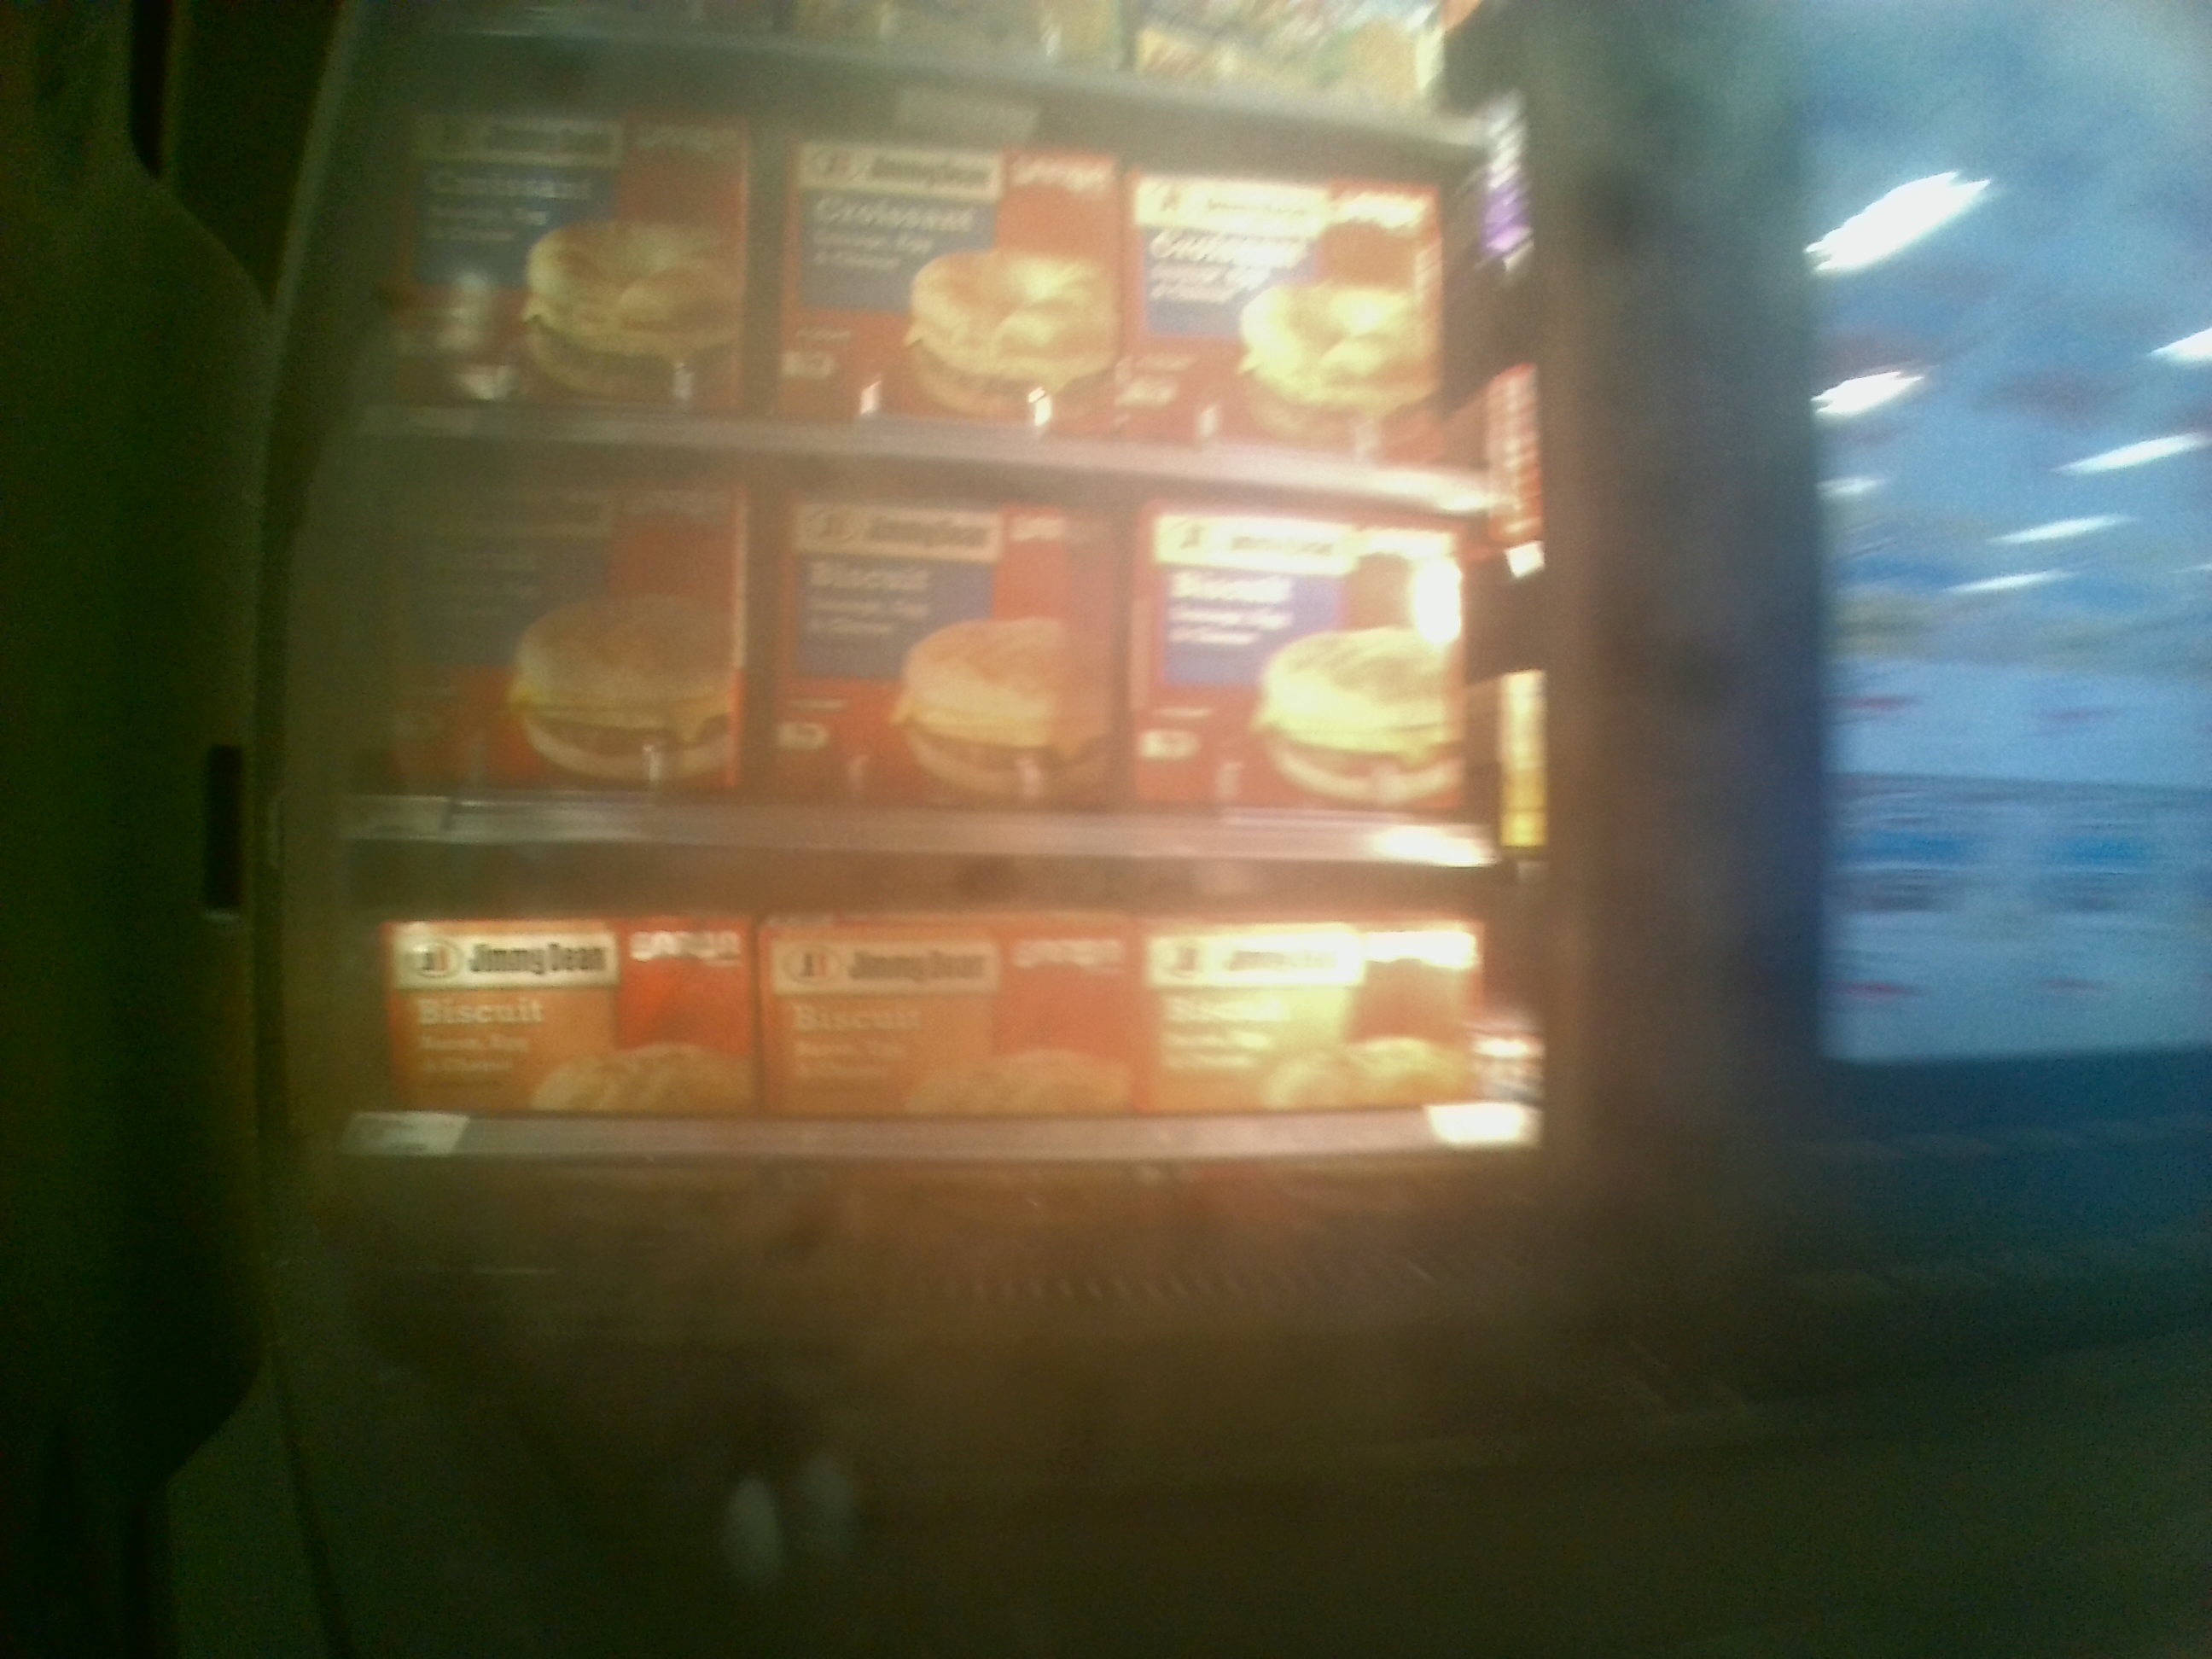shelf: (361, 432, 1526, 870), (329, 842, 1555, 1251)
